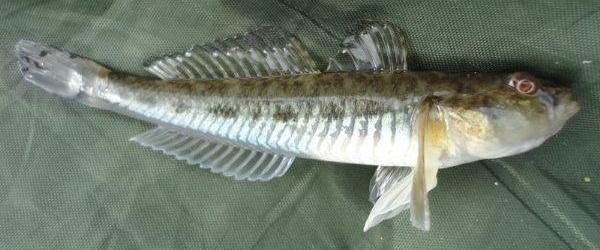Goby: (13, 18, 577, 236)
